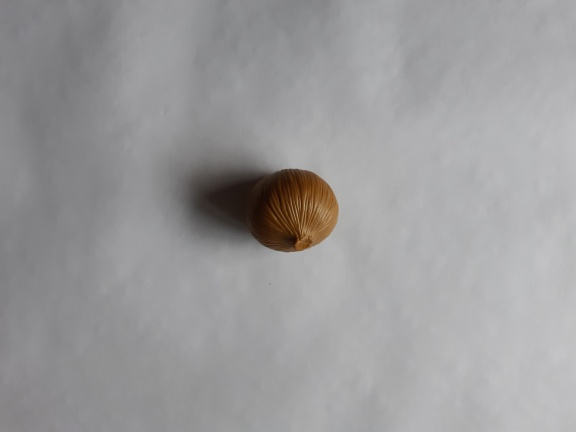onion: (239, 163, 346, 261)
